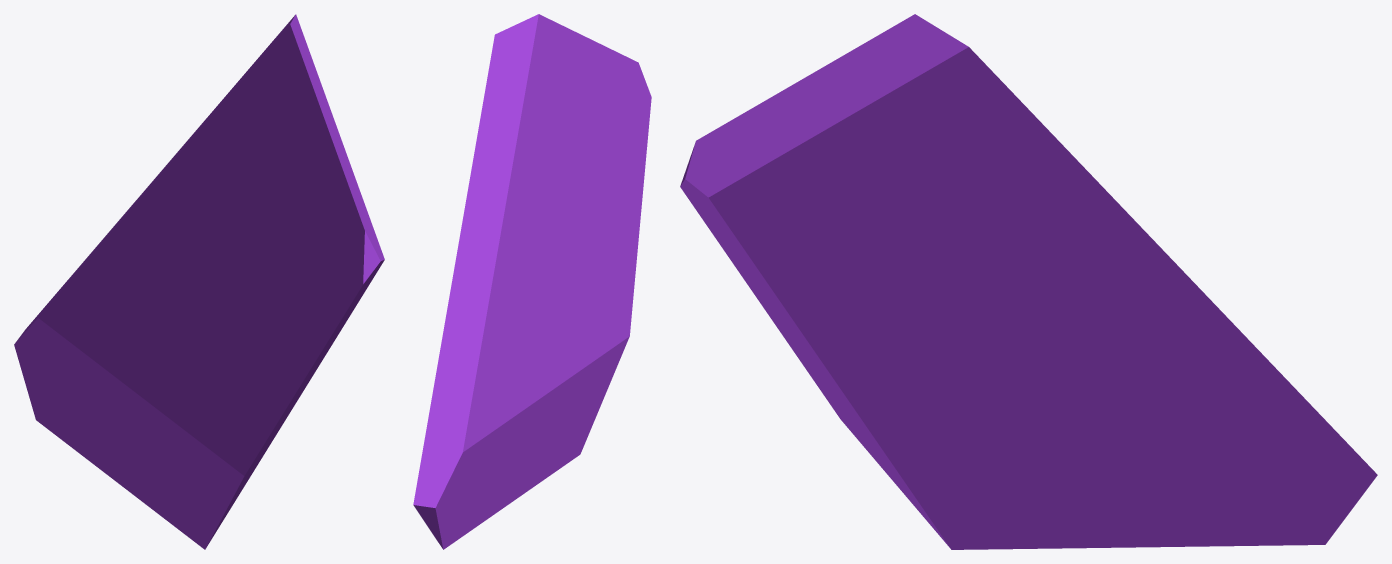
File: Window_3_6_chunks.fbx
The picture shows the model from 3 angles, left to right: view 1: azimuth 30°, elevation 25°; view 2: azimuth 150°, elevation 25°; view 3: azimuth 270°, elevation 25°; orthographic projection. The views are drawn at different scales.
Parts seen in each view (by area): view 1: Window_3_6_0; view 2: Window_3_6_0; view 3: Window_3_6_0.
Boxes of the visible parts, x1,y1,x2,y2 form: Window_3_6_0: (14,14,384,549); Window_3_6_0: (413,14,651,549); Window_3_6_0: (680,14,1377,549).
Bounding box in the file's own units: 89.82 × 407 × 449.
